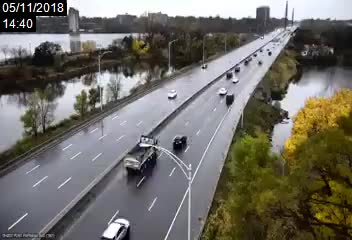personal_car: (101, 218, 130, 240), (172, 134, 188, 150), (225, 92, 235, 104), (166, 89, 177, 99), (217, 87, 228, 96), (224, 70, 234, 78), (200, 63, 209, 70), (231, 77, 240, 82)
truck: (124, 134, 159, 175)
